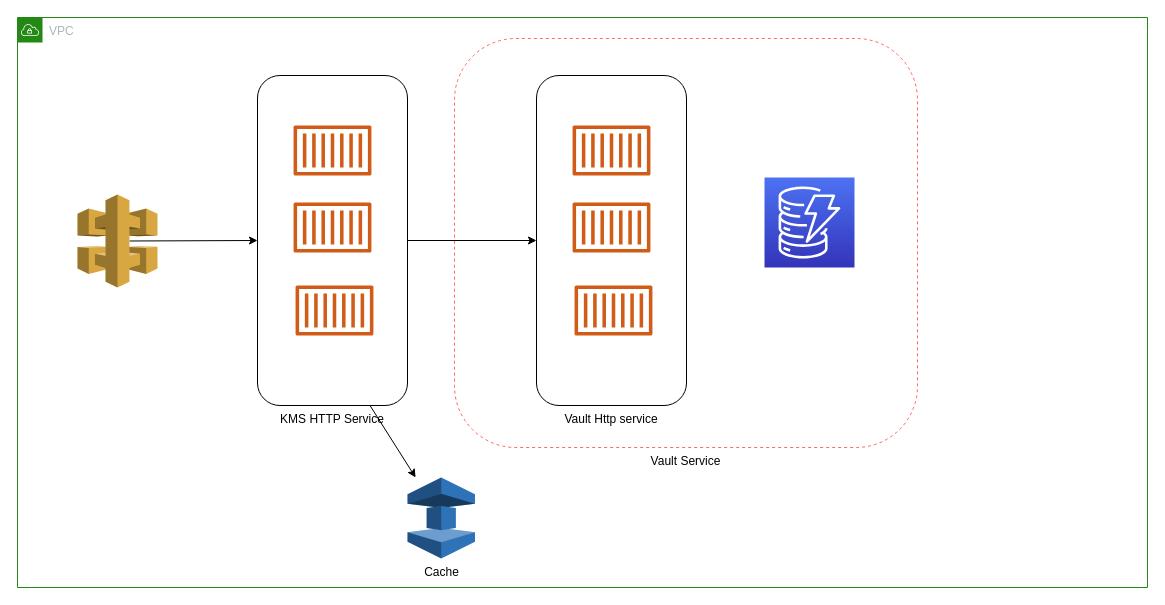
This 1165x605 diagram has some shape labels left out. The centre of each missing label's shape, as x and y in pixels:
"API gateway" goes at pixel 117 241.
"Secrets Backend Dynamo Db" goes at pixel 809 222.
